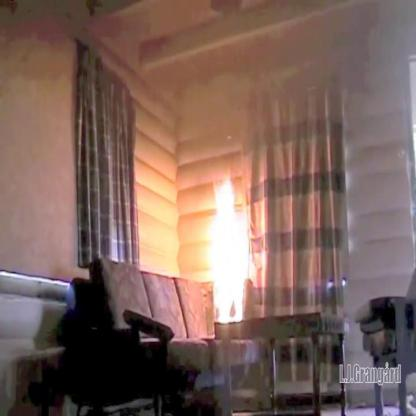fire: (207, 172, 258, 332)
